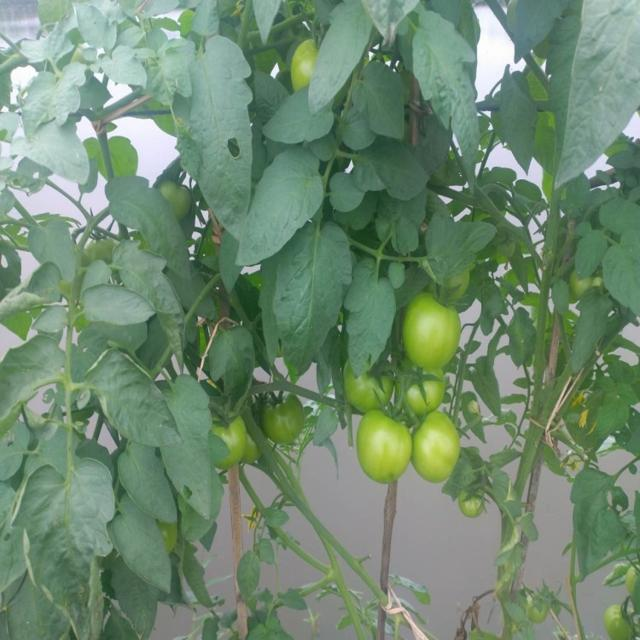tomato: (402, 290, 462, 368), (357, 410, 412, 483), (409, 417, 463, 489), (341, 361, 389, 408), (262, 393, 305, 444), (401, 369, 446, 415), (216, 412, 246, 471), (287, 37, 319, 85), (155, 176, 192, 216), (603, 606, 635, 640), (461, 491, 485, 520), (527, 597, 544, 622), (627, 560, 640, 592)
